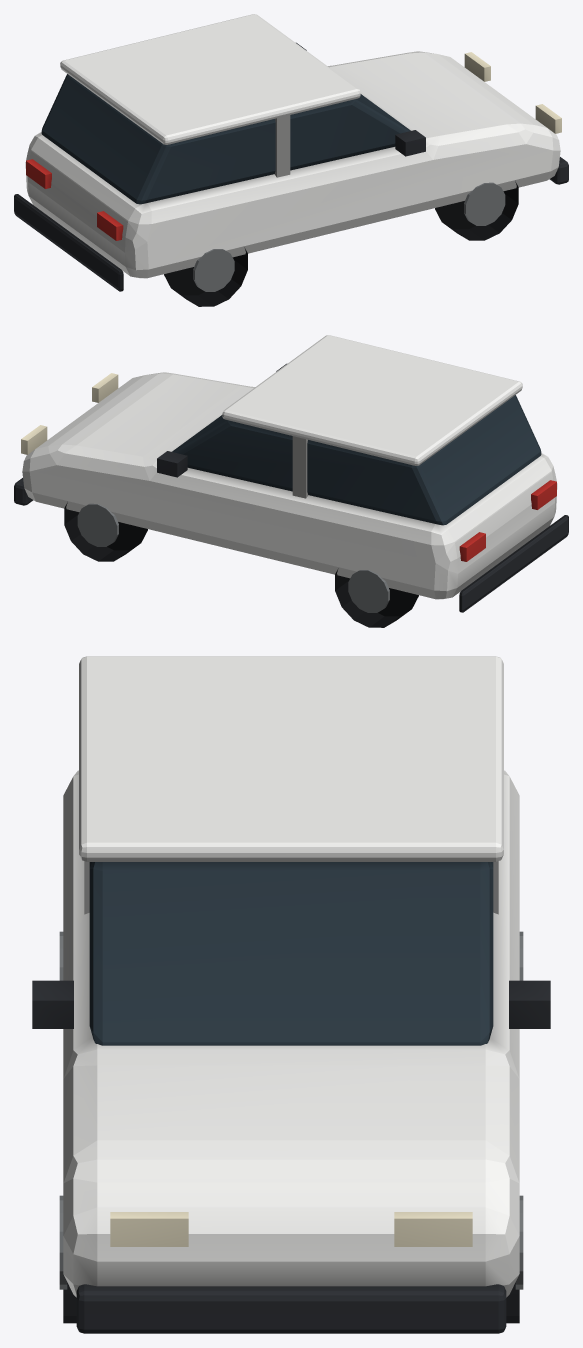
File: hatchback-BQRvqQBp.glb
The picture shows the model from 3 angles, top to bottom: view 1: azimuth 30°, elevation 25°; view 2: azimuth 150°, elevation 25°; view 3: azimuth 270°, elevation 25°; orthographic projection. The views are drawn at different scales.
Visible parts, largest first — view 1: carroceria, pieza, vidrio, pieza.004, rueda.004, rueda, rueda.005, rueda.001, pieza.001, pieza.005, pieza.007, pieza.009 (+2 smaller); view 2: carroceria, pieza, vidrio, pieza.004, rueda.006, rueda.002, rueda.007, rueda.003, pieza.002, pieza.006, pieza.009, pieza.007 (+2 smaller); view 3: carroceria, pieza, vidrio, pieza.003, pieza.007, pieza.009, pieza.005, pieza.006.
Boxes of the visible parts, <box> form: carroceria: <box>25,51,560,278</box>; pieza: <box>60,14,360,144</box>; vidrio: <box>41,74,410,204</box>; pieza.004: <box>14,194,123,291</box>; rueda.004: <box>435,181,518,240</box>; rueda: <box>164,247,247,306</box>; rueda.005: <box>464,182,505,225</box>; rueda.001: <box>193,249,234,291</box>; pieza.001: <box>274,115,290,177</box>; pieza.005: <box>395,130,425,156</box>; pieza.007: <box>535,104,561,133</box>; pieza.009: <box>464,52,490,81</box>; carroceria: <box>22,372,557,599</box>; pieza: <box>222,335,522,465</box>; vidrio: <box>172,395,541,525</box>; pieza.004: <box>459,515,568,612</box>; rueda.006: <box>64,502,147,561</box>; rueda.002: <box>335,568,418,627</box>; rueda.007: <box>77,503,118,546</box>; rueda.003: <box>348,570,389,612</box>; pieza.002: <box>292,436,308,498</box>; pieza.006: <box>157,451,187,477</box>; pieza.009: <box>21,425,47,454</box>; pieza.007: <box>92,373,118,402</box>; carroceria: <box>63,770,519,1297</box>; pieza: <box>79,656,503,861</box>; vidrio: <box>89,862,493,1045</box>; pieza.003: <box>76,1284,506,1333</box>; pieza.007: <box>110,1212,188,1246</box>; pieza.009: <box>394,1212,472,1246</box>; pieza.005: <box>32,980,73,1028</box>; pieza.006: <box>509,980,550,1028</box>.
Size of the model in its own units: 3.99 by 1.5 by 1.99.
